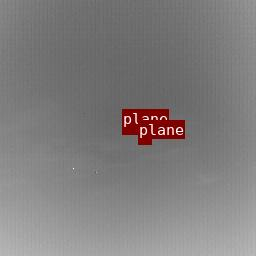plane: (122, 128, 137, 134), (138, 139, 151, 144)
